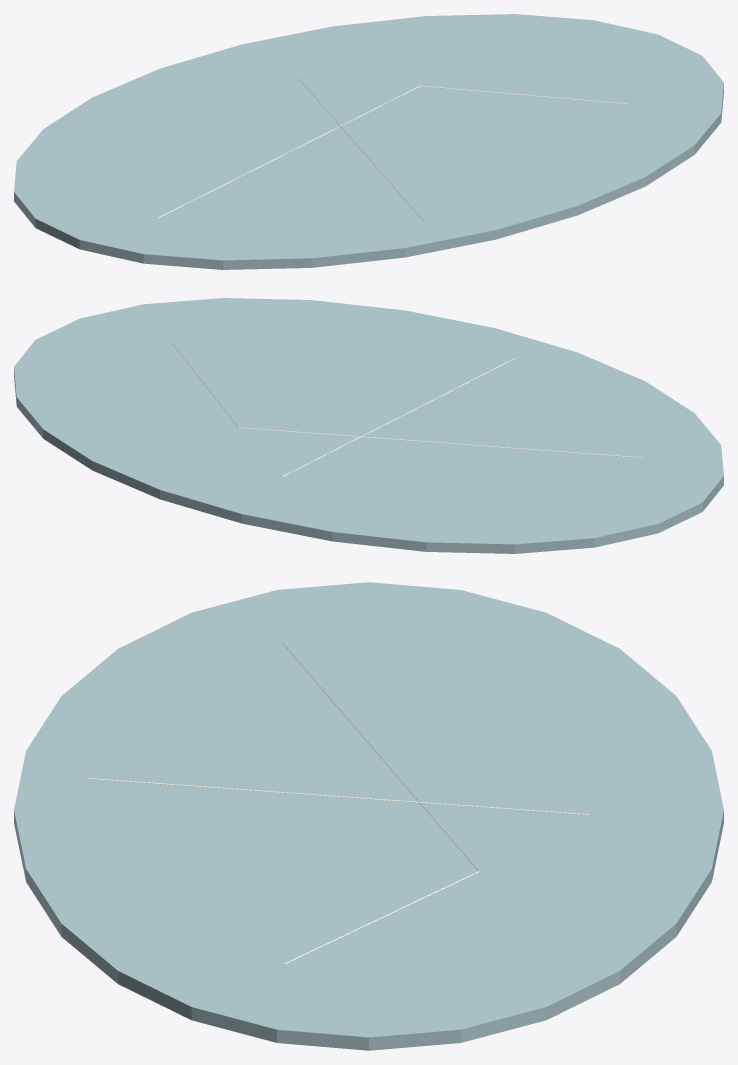
3 views of the same model, one above another, from view 1: azimuth 30°, elevation 25°; view 2: azimuth 150°, elevation 25°; view 3: azimuth 270°, elevation 25° (orthographic). The views are drawn at different scales.
Bounding box in the file's own units: 88 × 1.28 × 58.
